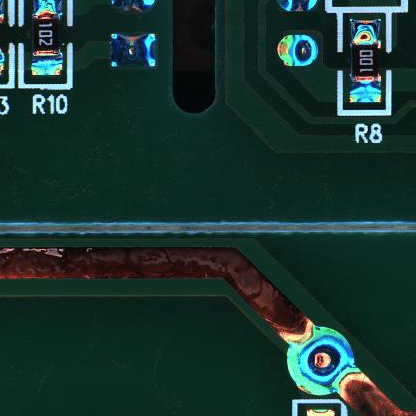spot: (284, 326, 353, 396), (278, 32, 320, 70)
